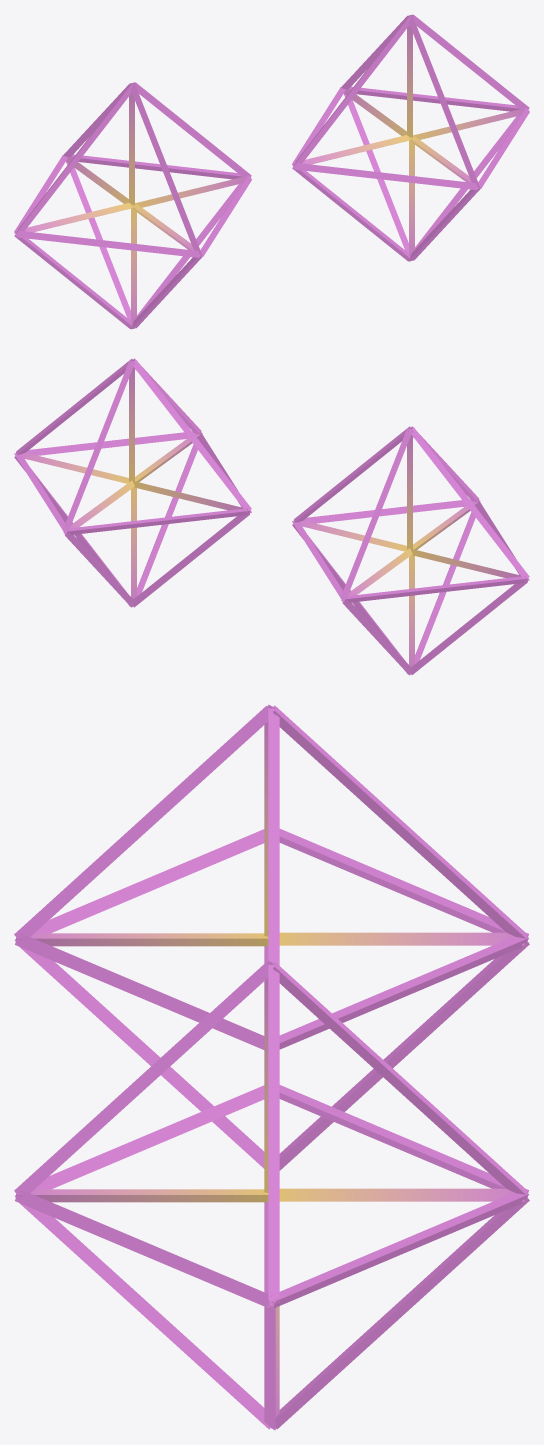
File: example.gltf
3 views of the same model, one above another, from view 1: azimuth 30°, elevation 25°; view 2: azimuth 150°, elevation 25°; view 3: azimuth 270°, elevation 25° (orthographic). The views are drawn at different scales.
Visible parts, largest first — view 1: left_isoclinic, right_isoclinic; view 2: left_isoclinic, right_isoclinic; view 3: right_isoclinic, left_isoclinic.
Part boxes in pixels (x1,y1,x2,y2): left_isoclinic: [14, 82, 251, 329]; right_isoclinic: [292, 14, 529, 261]; left_isoclinic: [292, 426, 529, 675]; right_isoclinic: [14, 358, 251, 607]; right_isoclinic: [14, 960, 529, 1430]; left_isoclinic: [14, 704, 529, 1170].
Bounding box in the file's own units: 4.44 × 2.04 × 2.04.
